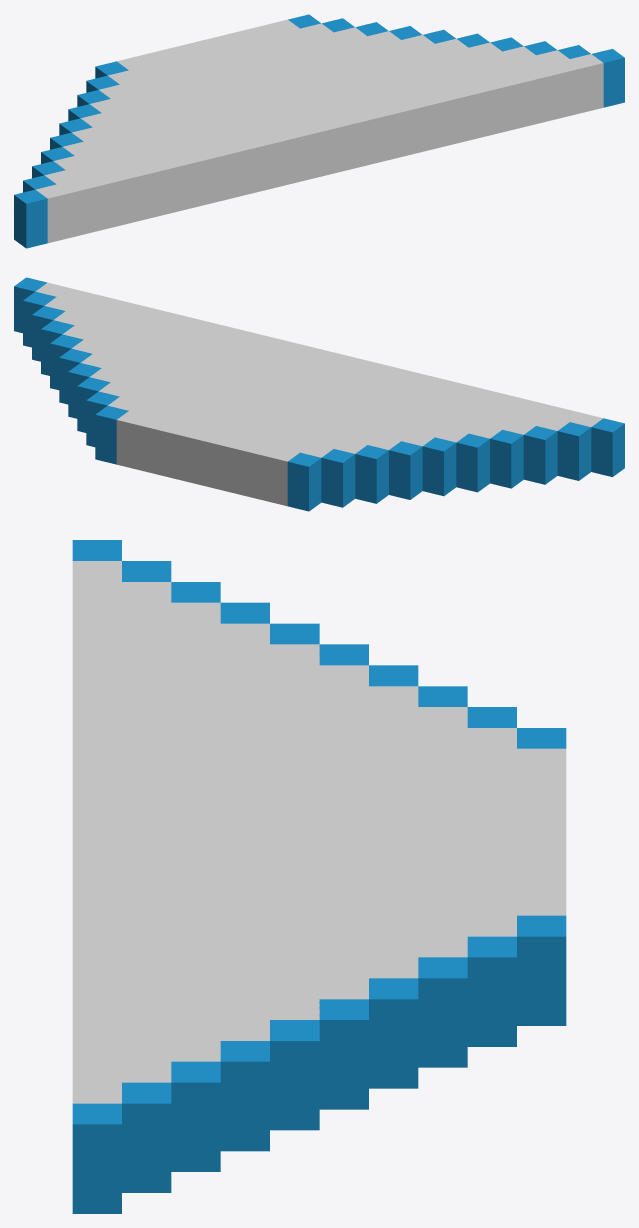
The model's file is DefaultToWide.fbx.
3 views of the same model, one above another, from view 1: azimuth 30°, elevation 25°; view 2: azimuth 150°, elevation 25°; view 3: azimuth 270°, elevation 25° (orthographic). The views are drawn at different scales.
Visible parts, largest first — view 1: Box_3; view 2: Box_3; view 3: Box_3.
Part boxes in pixels (bbox=[...]): Box_3: bbox=[14, 14, 624, 248]; Box_3: bbox=[14, 277, 624, 511]; Box_3: bbox=[72, 540, 566, 1213].
Size of the model in its own units: 28 by 2 by 10.
